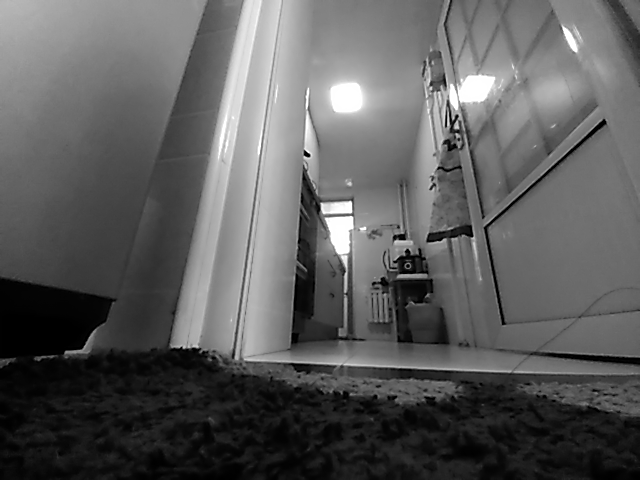carpet: (1, 344, 640, 480)
